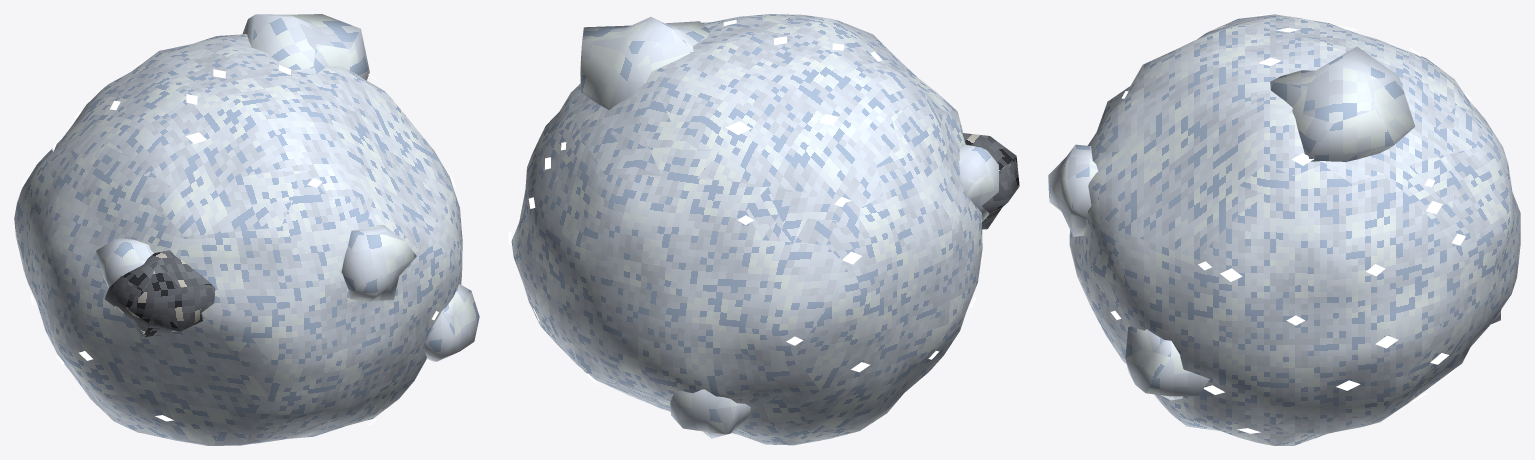
Rendered from w_snowball.glb.
3 renders of one model, left to right at view 1: azimuth 30°, elevation 25°; view 2: azimuth 150°, elevation 25°; view 3: azimuth 270°, elevation 25°, orthographic. The views are drawn at different scales.
Visible parts, largest first — view 1: snowball_body_wzA, snowball_body_wzB, snowball_body_wzN; view 2: snowball_body_wzA, snowball_body_wzB, snowball_body_wzN; view 3: snowball_body_wzA, snowball_body_wzN.
Part boxes in pixels (x1=…): snowball_body_wzA: x1=14, y1=14, x2=479, y2=445; snowball_body_wzB: x1=104, y1=250, x2=215, y2=337; snowball_body_wzN: x1=21, y1=62, x2=455, y2=425; snowball_body_wzA: x1=511, y1=14, x2=998, y2=445; snowball_body_wzB: x1=962, y1=133, x2=1019, y2=229; snowball_body_wzN: x1=508, y1=19, x2=975, y2=445; snowball_body_wzA: x1=1048, y1=14, x2=1520, y2=445; snowball_body_wzN: x1=1110, y1=14, x2=1471, y2=433.
Bounding box in the file's own units: 0.1402 × 0.1351 × 0.1473.
Materials: 4 (3 with a texture image).
